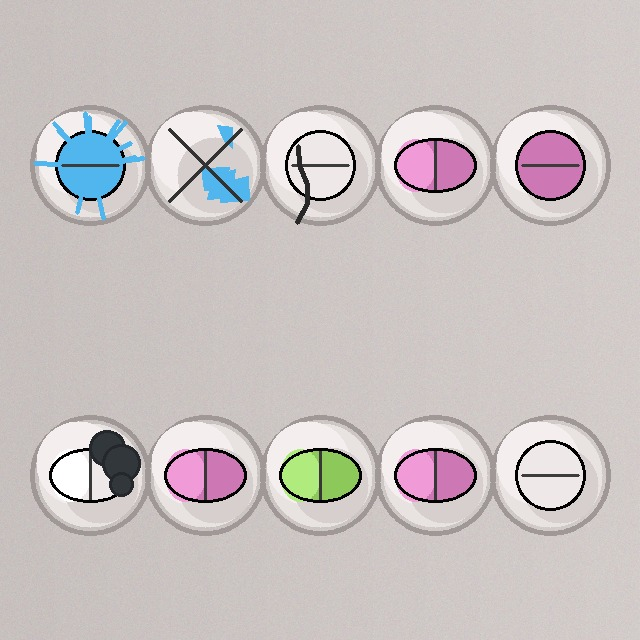broken: (143, 103, 267, 227)
crack: (258, 103, 382, 227)
flash: (28, 103, 152, 227)
stain: (28, 413, 152, 537)
